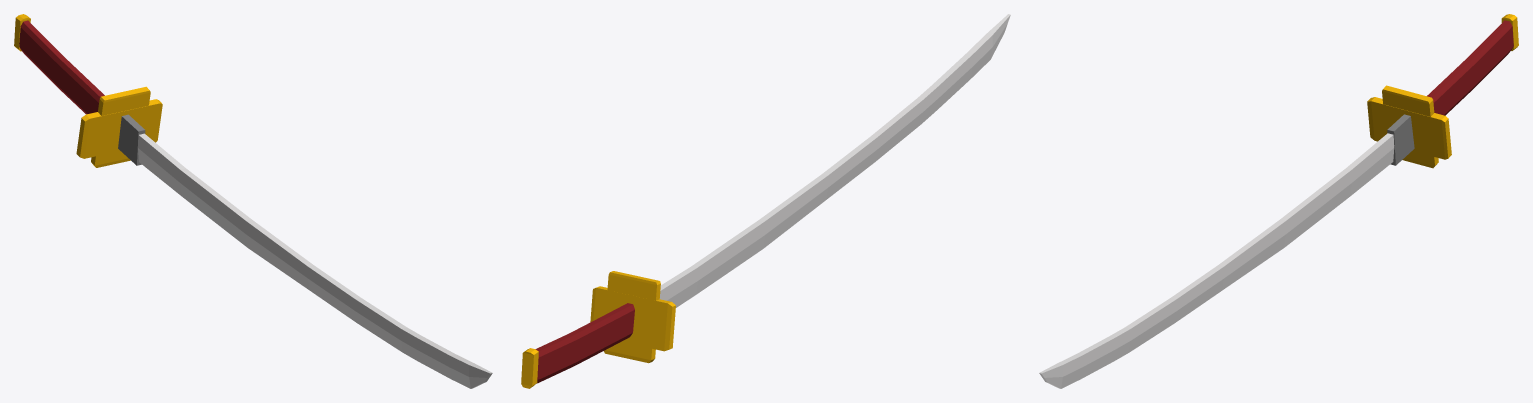
The model's file is KatanaZERO.fbx.
3 renders of one model, left to right at view 1: azimuth 30°, elevation 25°; view 2: azimuth 150°, elevation 25°; view 3: azimuth 330°, elevation 25°, orthographic. The views are drawn at different scales.
Visible parts, largest first — view 1: Cube; view 2: Cube; view 3: Cube.
Boxes of the visible parts, x1,y1,x2,y2 form: Cube: [14, 14, 492, 388]; Cube: [521, 14, 1010, 388]; Cube: [1039, 14, 1518, 388].
Size of the model in its own units: 35.46 by 33.17 by 369.
